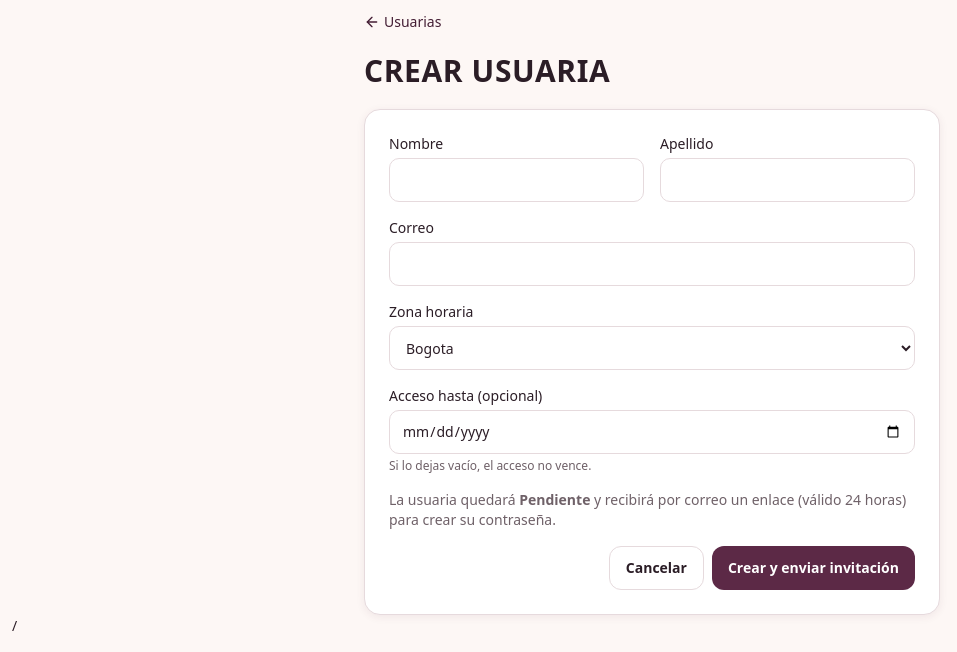
Test case: CreateUserPage (HU-05) › crea la usuaria con correo normalizado y navega a su ficha
The image size is (957, 652).
Type "Nora" into the field labelled "Nombre".
click(516, 180); type("Nora")  # box x1=389 y1=158 x2=644 y2=202
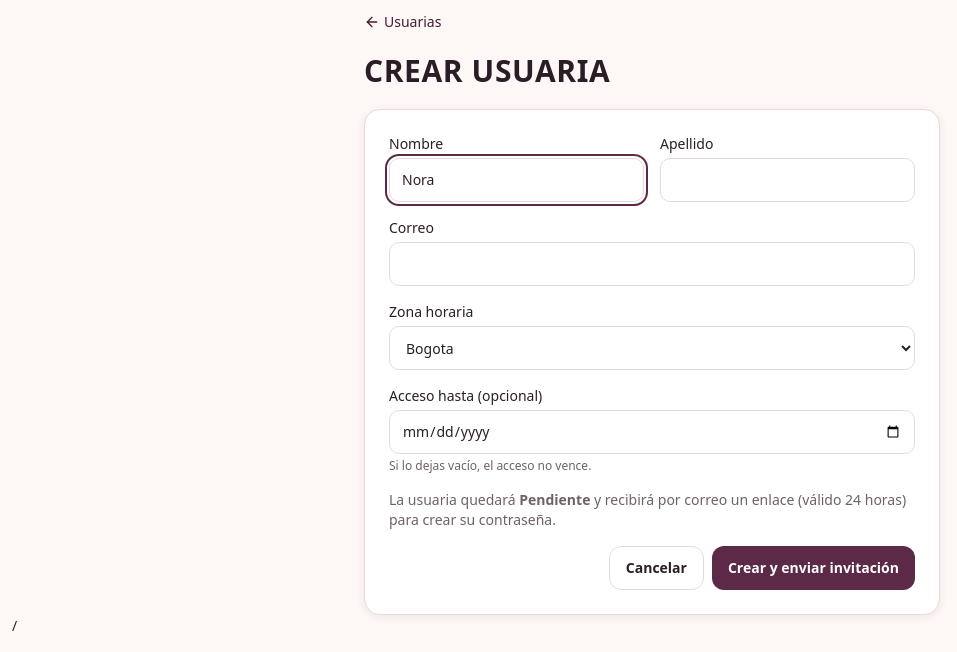
Type "Pérez" into the field labelled "Apellido".
click(788, 180); type("Pérez")  # box x1=660 y1=158 x2=915 y2=202
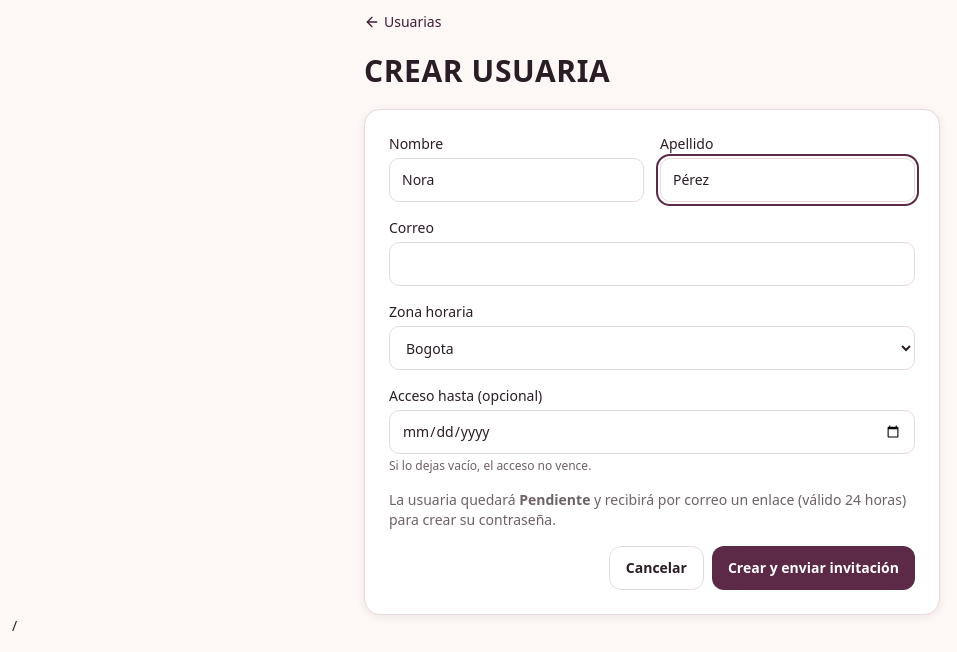
Type " NUEVA@Neo.co " into the field labelled "Correo".
click(652, 264); type(" NUEVA@Neo.co ")  # box x1=389 y1=242 x2=915 y2=286
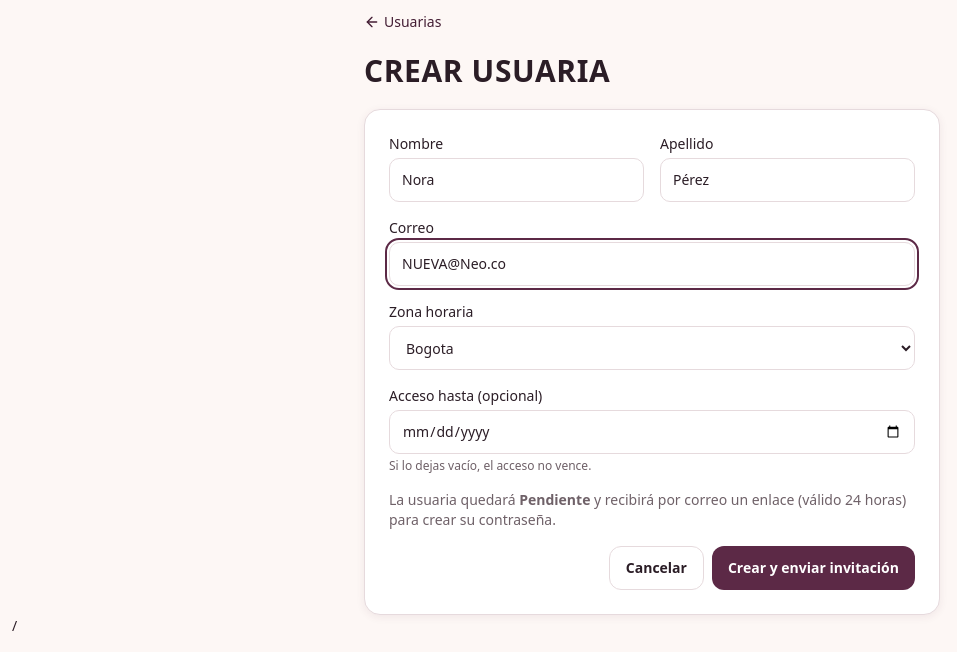
Click the button "Crear y enviar invitación".
click(813, 568)  # box x1=712 y1=546 x2=915 y2=590
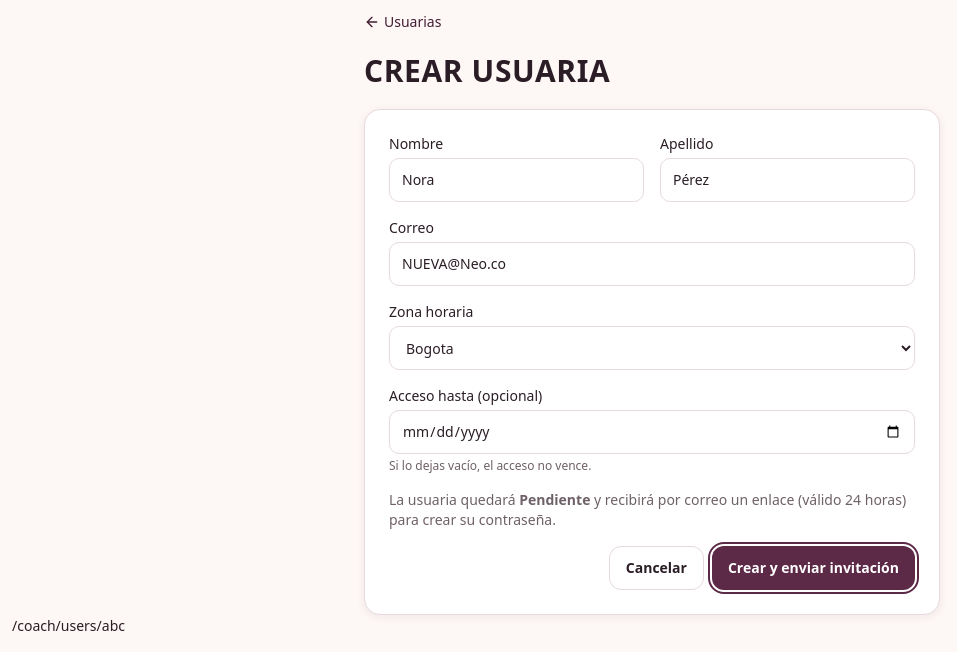
Expected: the text with test id "location" reads "/coach/users/abc", x1=12 y1=616 x2=125 y2=635
